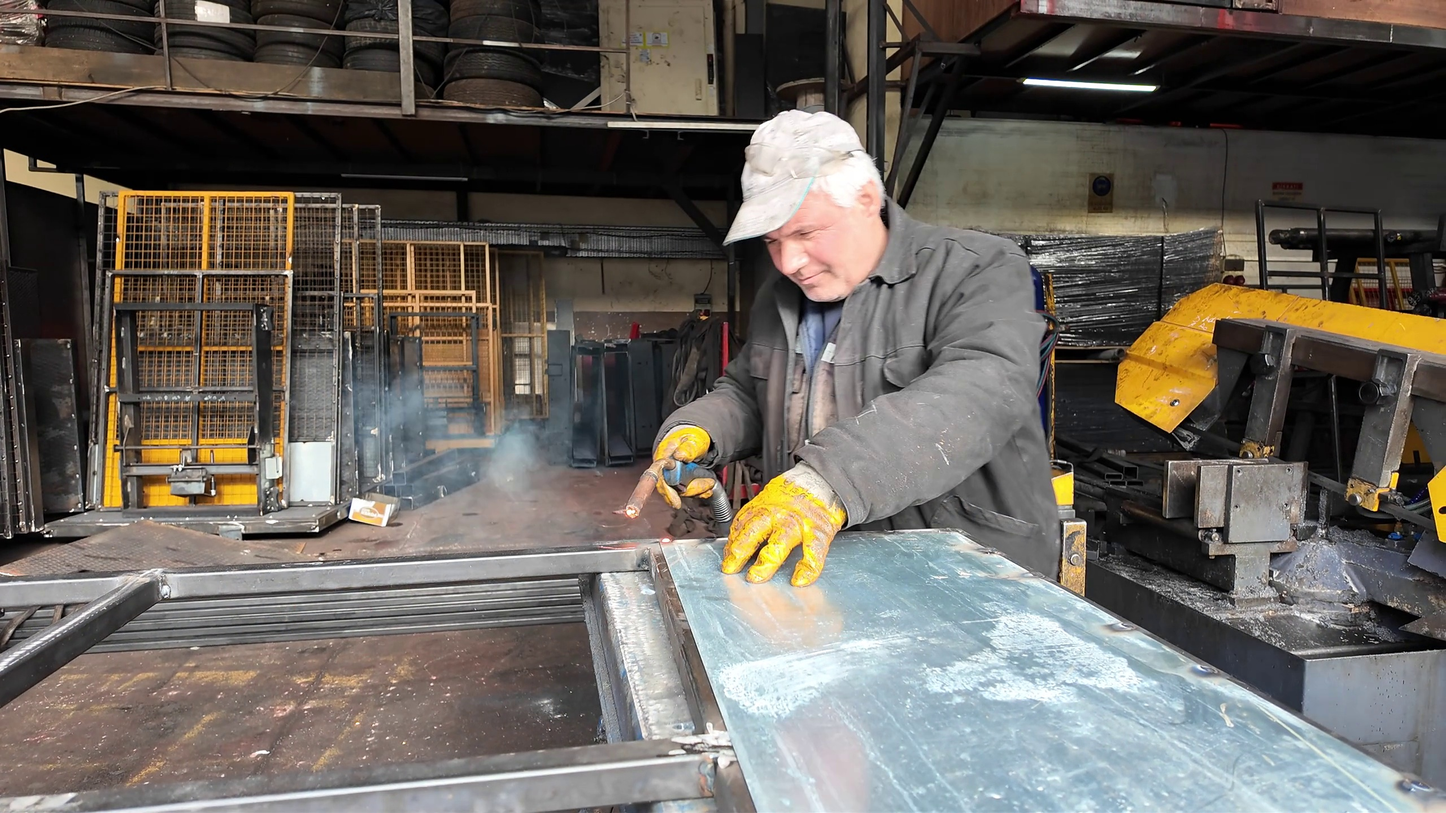person: (648, 110, 1061, 588)
